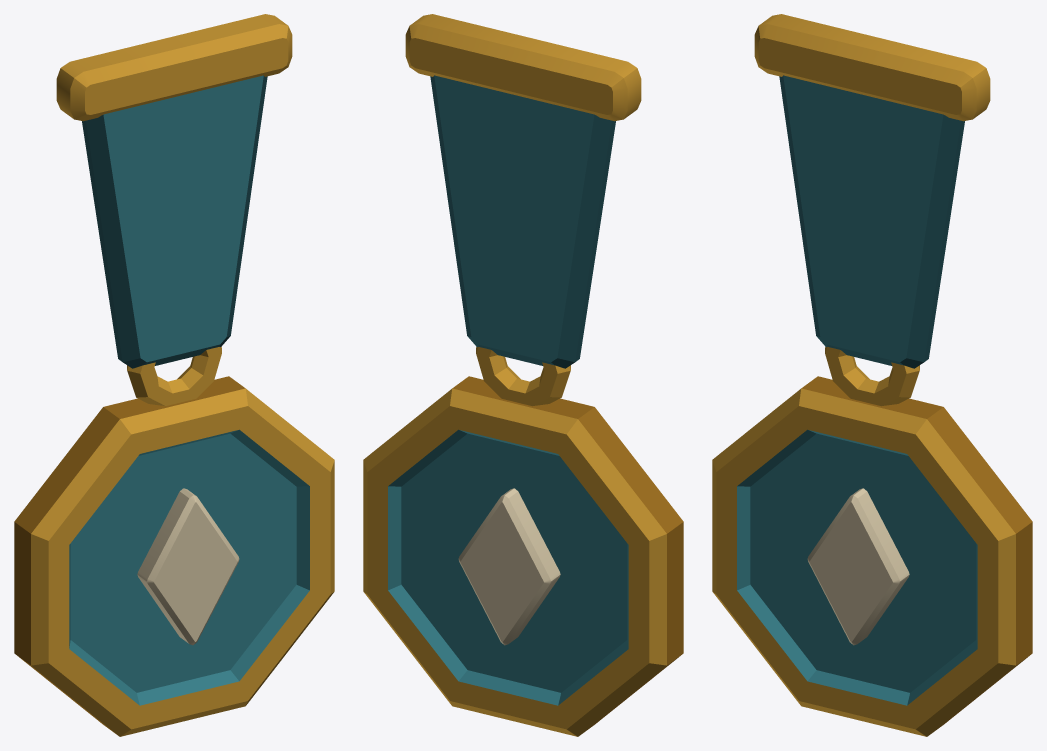
The model's file is Medal_26.glb.
3 renders of one model, left to right at view 1: azimuth 30°, elevation 25°; view 2: azimuth 150°, elevation 25°; view 3: azimuth 330°, elevation 25°, orthographic.
Visible parts, largest first — view 1: Medal_26; view 2: Medal_26; view 3: Medal_26.
Boxes of the visible parts, left/top/right/bottom form: Medal_26: left=14, top=14, right=334, bottom=736; Medal_26: left=363, top=14, right=683, bottom=736; Medal_26: left=712, top=14, right=1032, bottom=736.
Size of the model in its own units: 1.15 by 2.44 by 0.28.
